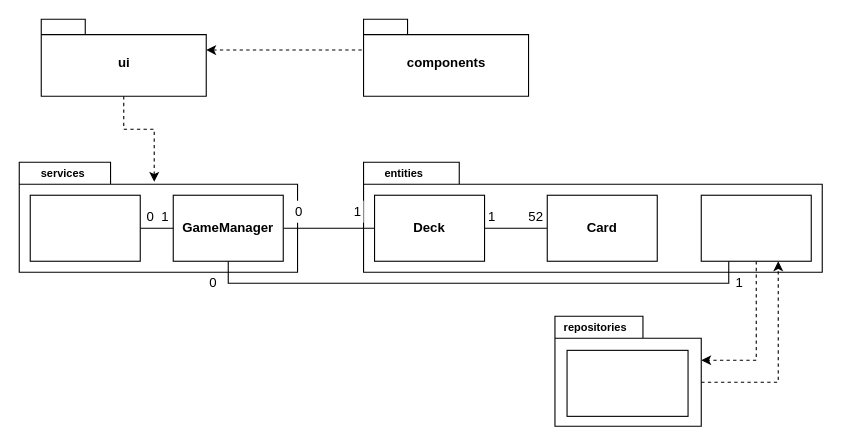
Image size: 842x446. Some labels were removed from this diagram. Here are the shapes that lost their labels. From the top down, the centre of each, then its label:
[84,227]: GameState
[755,227]: Player
[627,382]: PlayerRepository
